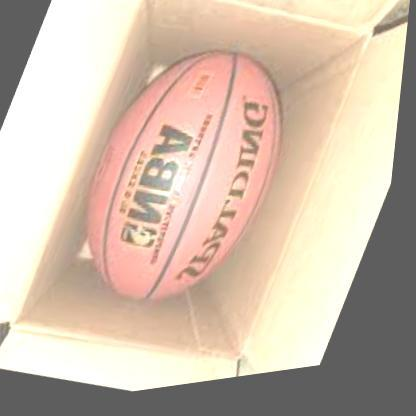basketball: (53, 24, 322, 338)
